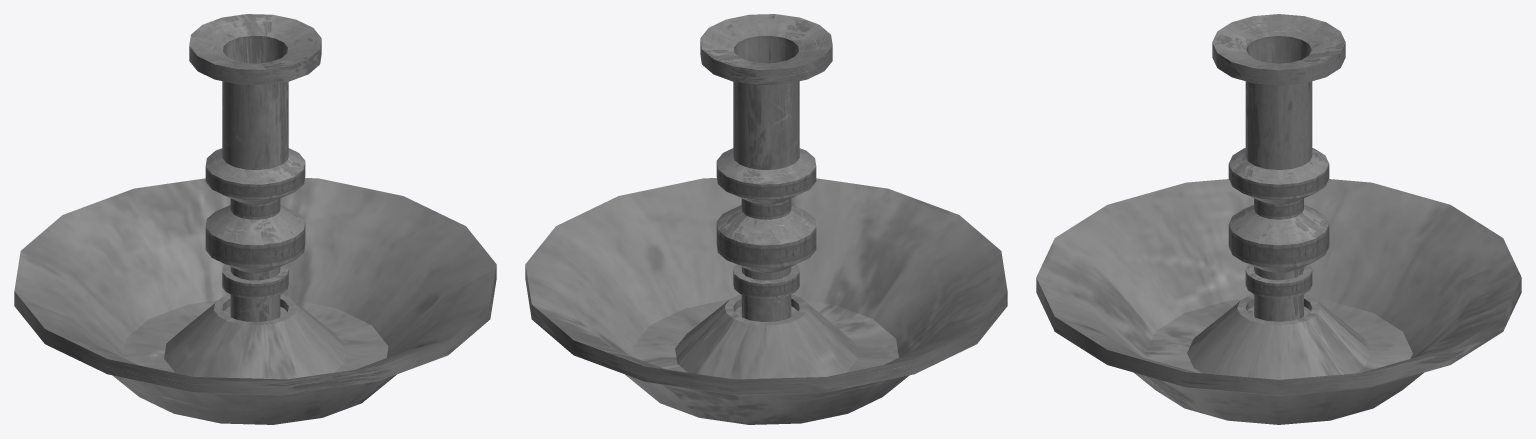
The model's file is chamberstick.glb.
3 views of the same model, side by side, from view 1: azimuth 30°, elevation 25°; view 2: azimuth 150°, elevation 25°; view 3: azimuth 270°, elevation 25° (orthographic).
Parts seen in each view (by area): view 1: Object_18; view 2: Object_18; view 3: Object_18.
Part boxes in pixels (x1,y1,x2,y2): Object_18: (14, 14, 496, 424); Object_18: (525, 14, 1007, 424); Object_18: (1036, 14, 1521, 424).
Bounding box in the file's own units: 0.2703 × 0.2004 × 0.2703.
Materials: 1 (1 with a texture image).
